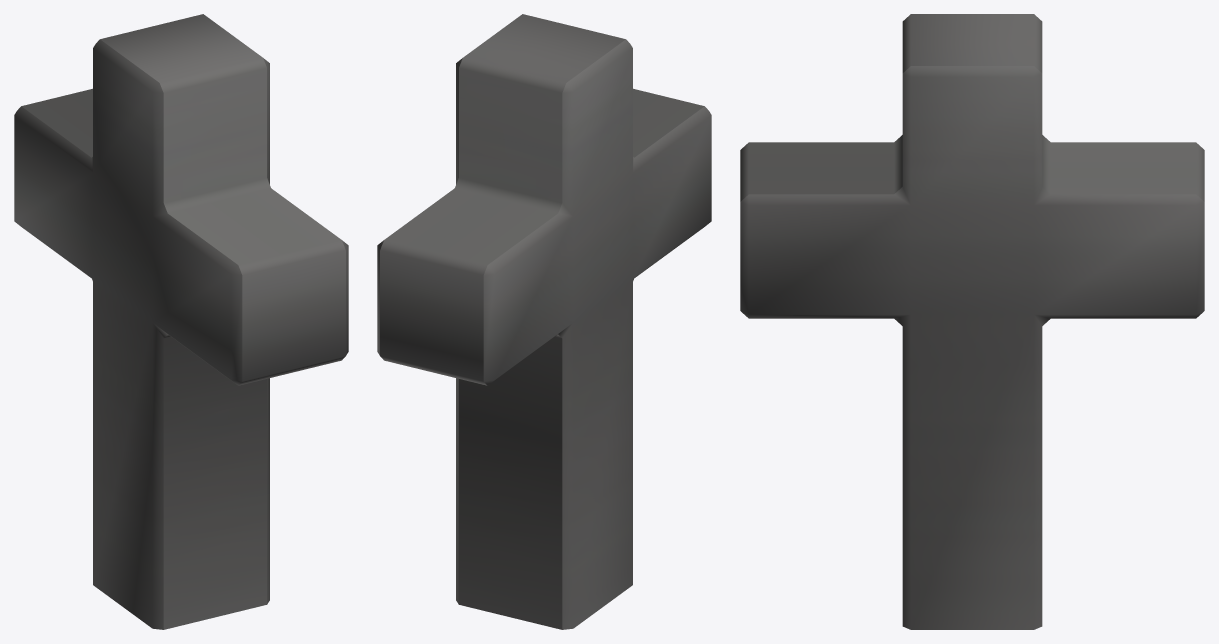
File: Cross_1_1.glb
3 views of the same model, side by side, from view 1: azimuth 30°, elevation 25°; view 2: azimuth 150°, elevation 25°; view 3: azimuth 270°, elevation 25° (orthographic). The views are drawn at different scales.
Visible parts, largest first — view 1: Cross_1_1; view 2: Cross_1_1; view 3: Cross_1_1.
Boxes of the visible parts, x1=… form: Cross_1_1: x1=14, y1=14, x2=348, y2=629; Cross_1_1: x1=377, y1=14, x2=711, y2=629; Cross_1_1: x1=740, y1=14, x2=1204, y2=629.
Bounding box in the file's own units: 0.2195 × 0.971 × 0.7287.
Materials: 1 (1 with a texture image).
